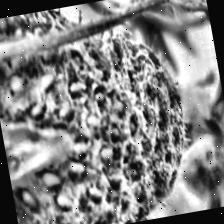Powdery Mildew Fruit: (0, 0, 202, 224)
